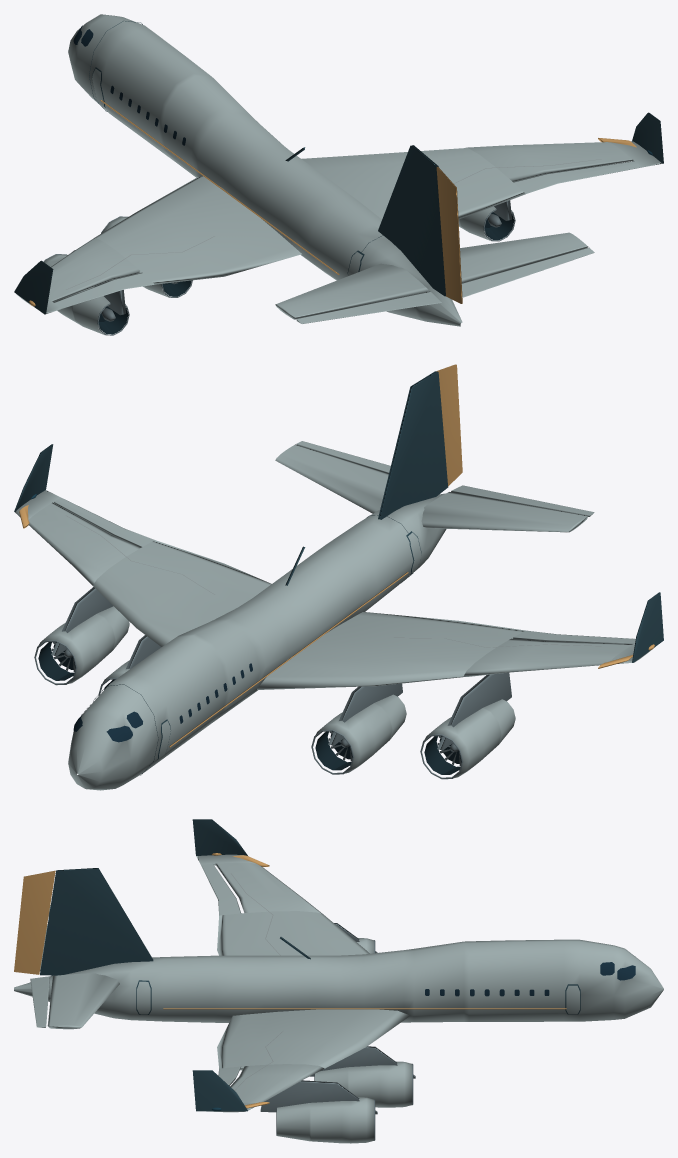
Rendered from player-leviathan-mobile-v3.glb.
The picture shows the model from 3 angles, top to bottom: view 1: azimuth 30°, elevation 25°; view 2: azimuth 150°, elevation 25°; view 3: azimuth 270°, elevation 25°; orthographic projection. The views are drawn at different scales.
Visible parts, largest first — view 1: hull, trim, rudder, elevator-right, elevator-left, metal, aileron-right, dark, aileron-left, accent, cabin; view 2: hull, trim, metal, dark, rudder, aileron-right, elevator-left, accent, aileron-left, cabin, elevator-right; view 3: hull, trim, metal, rudder, accent, aileron-left, elevator-right, cabin.
Boxes of the visible parts, left/top/right/bottom form: hull: left=16, top=14, right=662, bottom=334; trim: left=14, top=21, right=663, bottom=314; rudder: left=436, top=167, right=462, bottom=303; elevator-right: left=461, top=247, right=594, bottom=297; elevator-left: left=296, top=291, right=441, bottom=323; metal: left=43, top=200, right=515, bottom=335; aileron-right: left=513, top=161, right=641, bottom=193; dark: left=97, top=212, right=514, bottom=334; aileron-left: left=54, top=272, right=154, bottom=308; accent: left=29, top=100, right=636, bottom=306; cabin: left=73, top=25, right=185, bottom=145; hull: left=15, top=444, right=654, bottom=790; trim: left=14, top=371, right=663, bottom=775; metal: left=34, top=587, right=511, bottom=779; dark: left=38, top=642, right=461, bottom=774; rudder: left=436, top=364, right=462, bottom=486; aileron-right: left=54, top=497, right=154, bottom=547; elevator-left: left=451, top=485, right=594, bottom=516; accent: left=19, top=505, right=654, bottom=747; aileron-left: left=513, top=630, right=635, bottom=643; cabin: left=73, top=663, right=252, bottom=742; elevator-right: left=296, top=441, right=390, bottom=473; hull: left=14, top=854, right=663, bottom=1143; trim: left=40, top=819, right=580, bottom=1111; metal: left=260, top=923, right=415, bottom=1140; rudder: left=14, top=870, right=55, bottom=974; accent: left=163, top=853, right=566, bottom=1108; aileron-left: left=201, top=863, right=241, bottom=915; elevator-right: left=30, top=976, right=49, bottom=1027; cabin: left=425, top=962, right=635, bottom=996.
Size of the model in its own units: 65.56 by 22.96 by 70.
